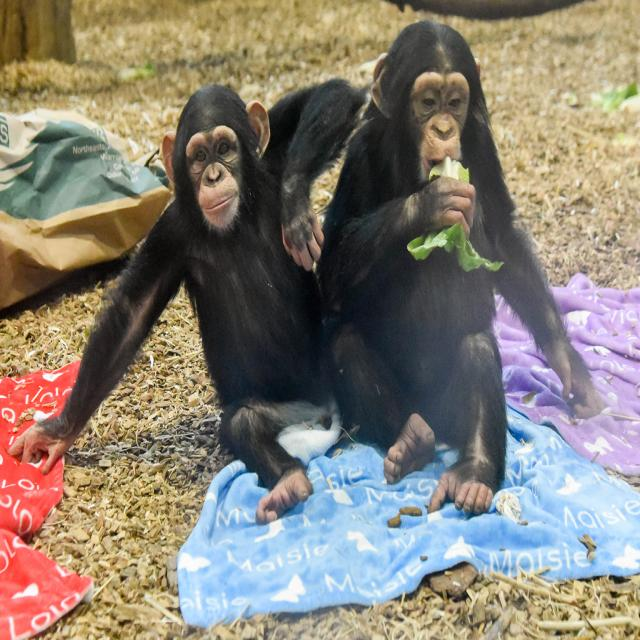Chimpanzee: (56, 84, 347, 520), (327, 22, 582, 510)
